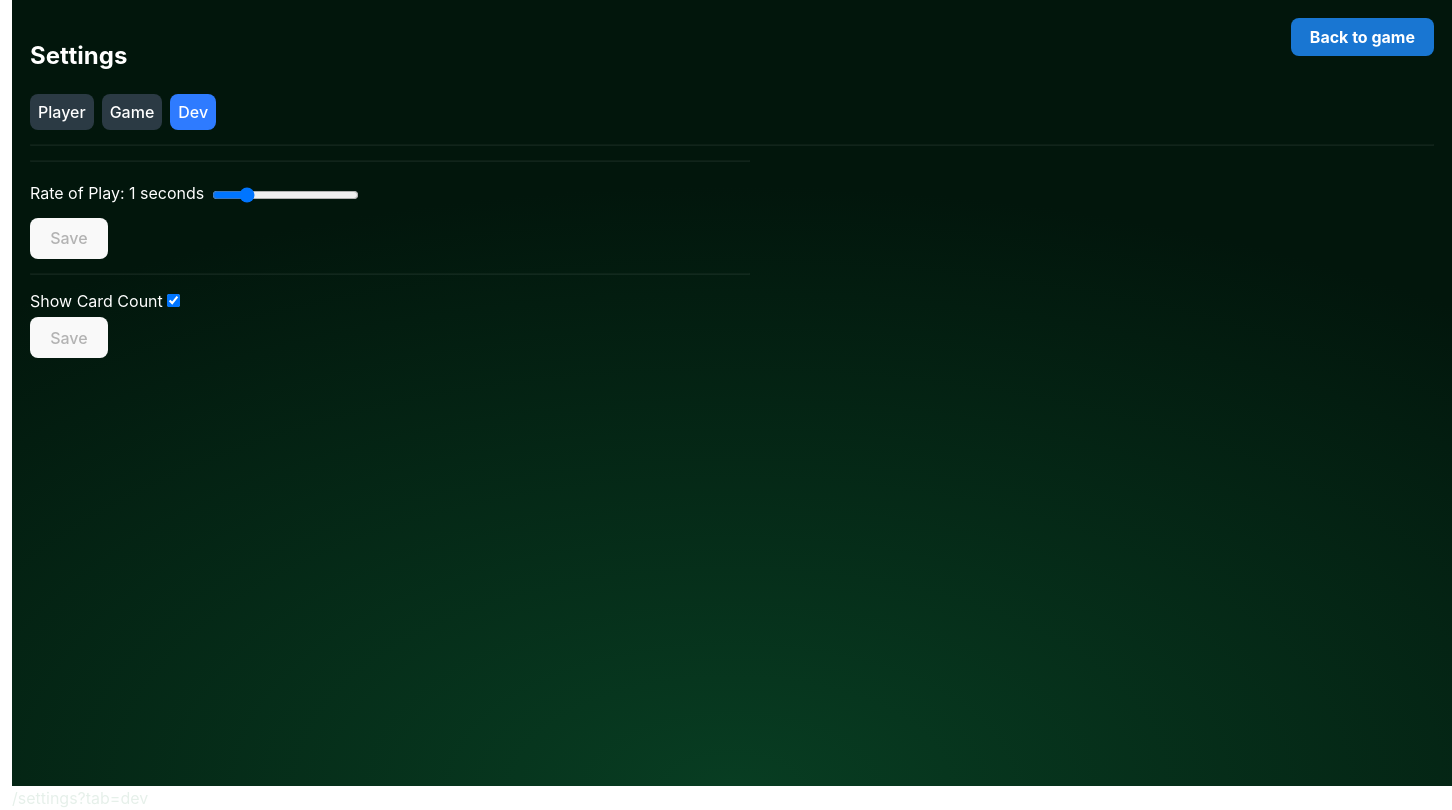
Test: Settings › says so when a setting can't be saved to the account, and clears it after a good save
The image size is (1452, 810).
Click the checkbox named "showCardCount".
click(173, 300)  # box [167, 294, 180, 307]
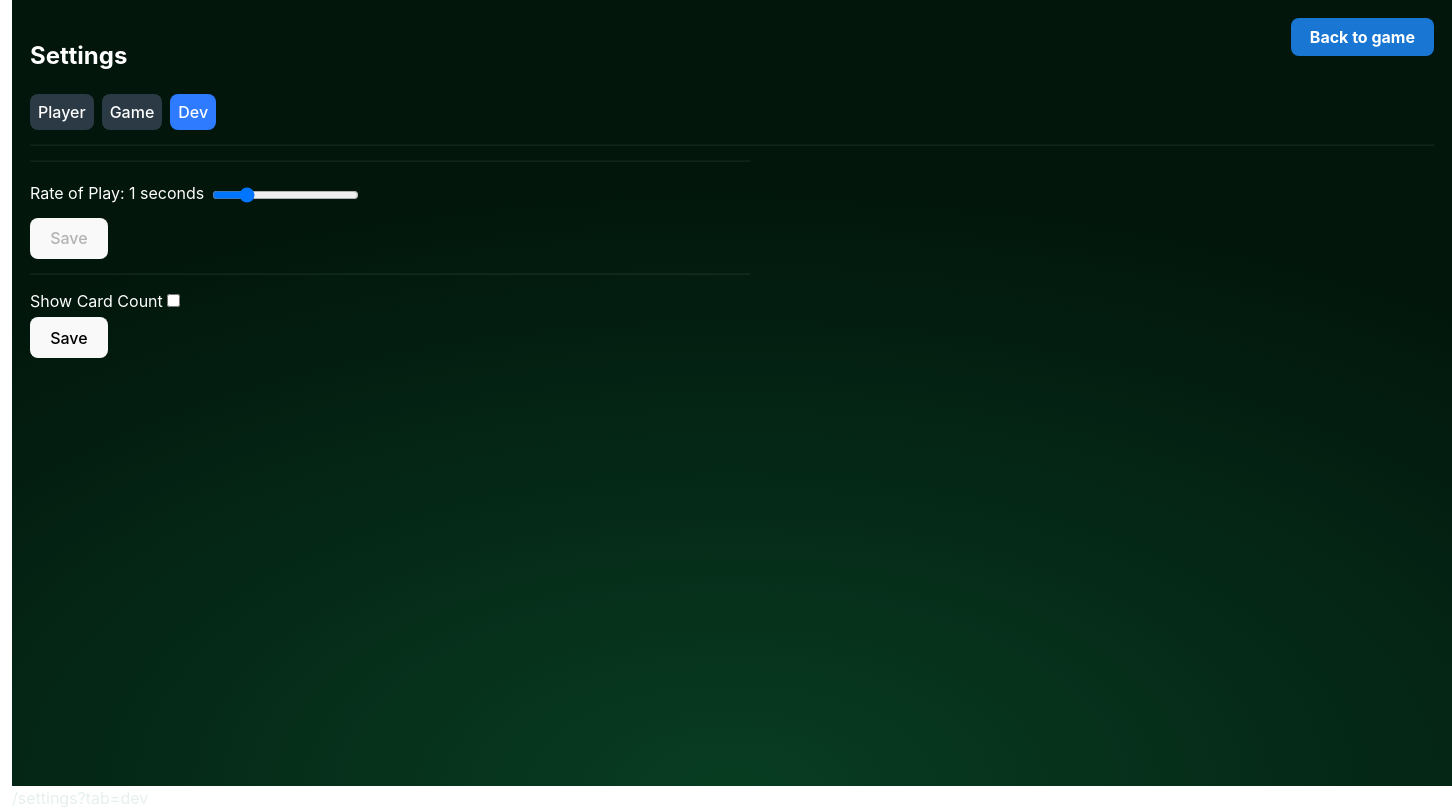
Click the button with aria-label "Save showCardCount".
click(69, 338)  # box [30, 317, 108, 358]
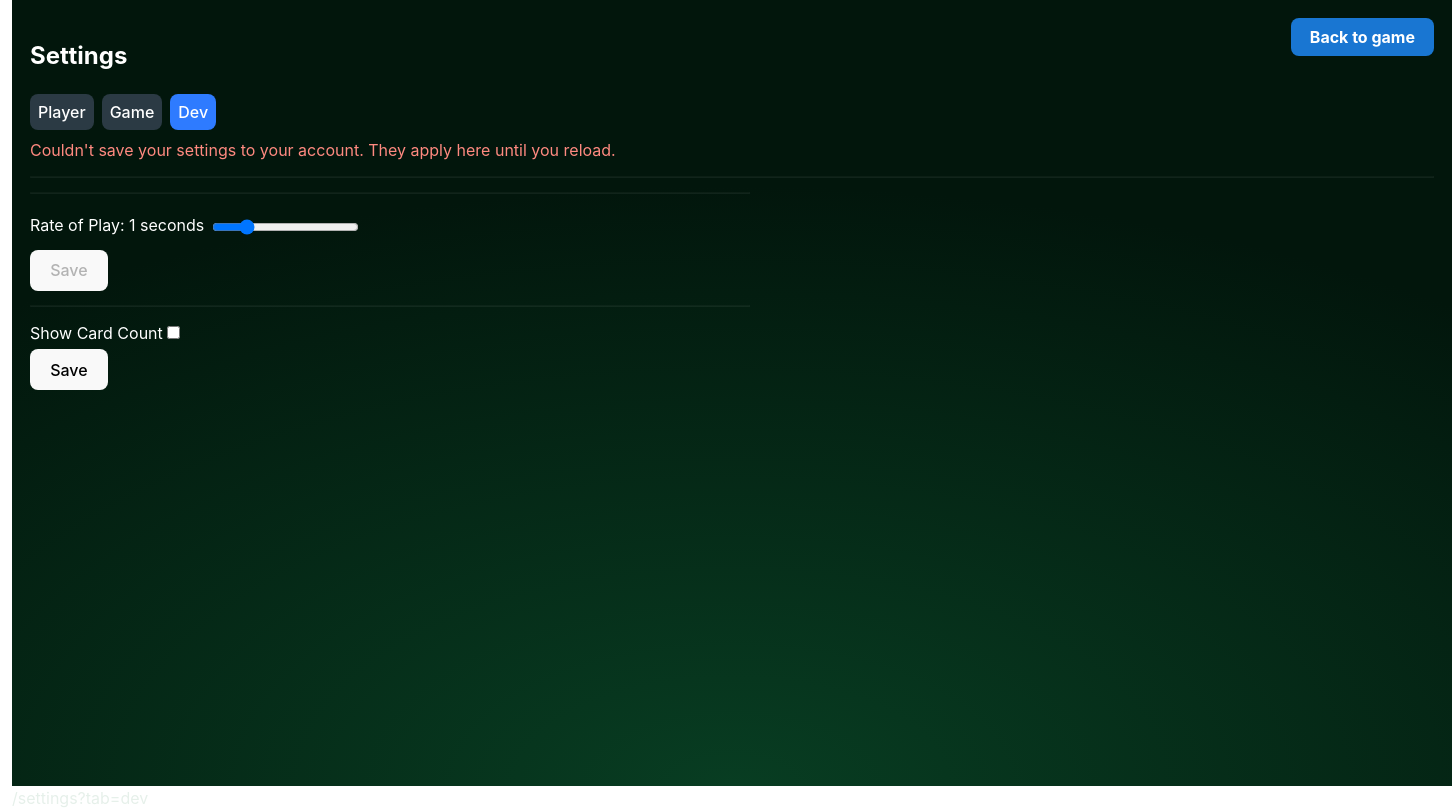
Expected: the message shows "Couldn't save your settings", [30, 140, 616, 160]
Click the button with aria-label "Save showCardCount".
click(69, 370)  # box [30, 349, 108, 390]
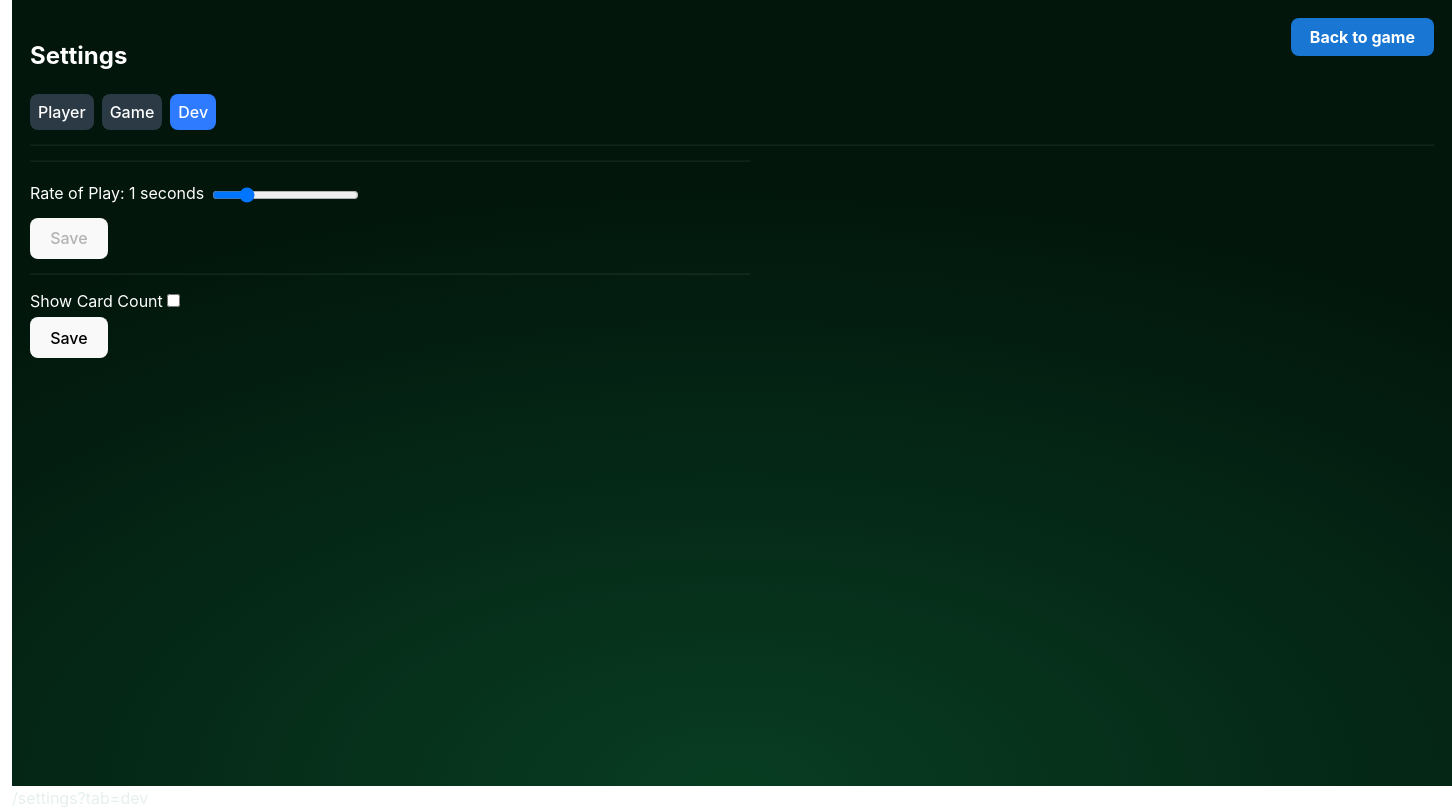
Expected: the message "Couldn't save your settings to your account. They apply here until you reload." is gone
